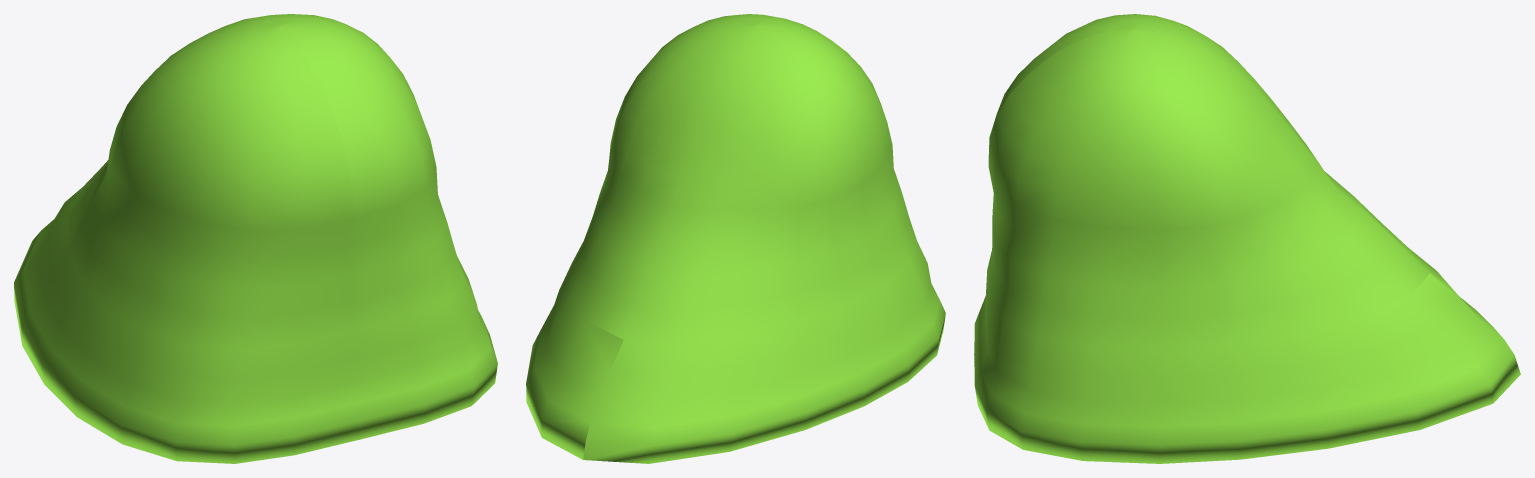
File: Slime.fbx
3 renders of one model, left to right at view 1: azimuth 30°, elevation 25°; view 2: azimuth 150°, elevation 25°; view 3: azimuth 270°, elevation 25°, orthographic. The views are drawn at different scales.
Parts seen in each view (by area): view 1: pSphere1; view 2: pSphere1; view 3: pSphere1.
Part boxes in pixels (bbox=[...]): pSphere1: bbox=[14, 14, 497, 463]; pSphere1: bbox=[526, 14, 945, 463]; pSphere1: bbox=[974, 14, 1520, 463].
Bounding box in the file's own units: 1.04 × 0.9265 × 1.33.
